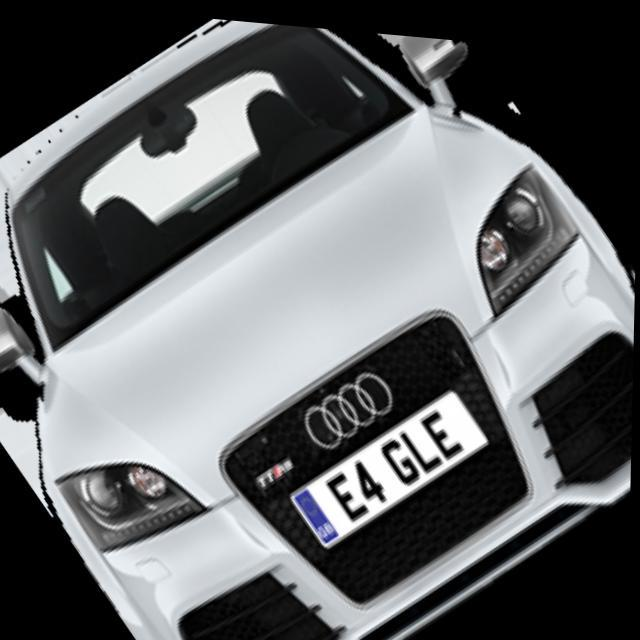license_plate: (285, 362, 490, 552)
